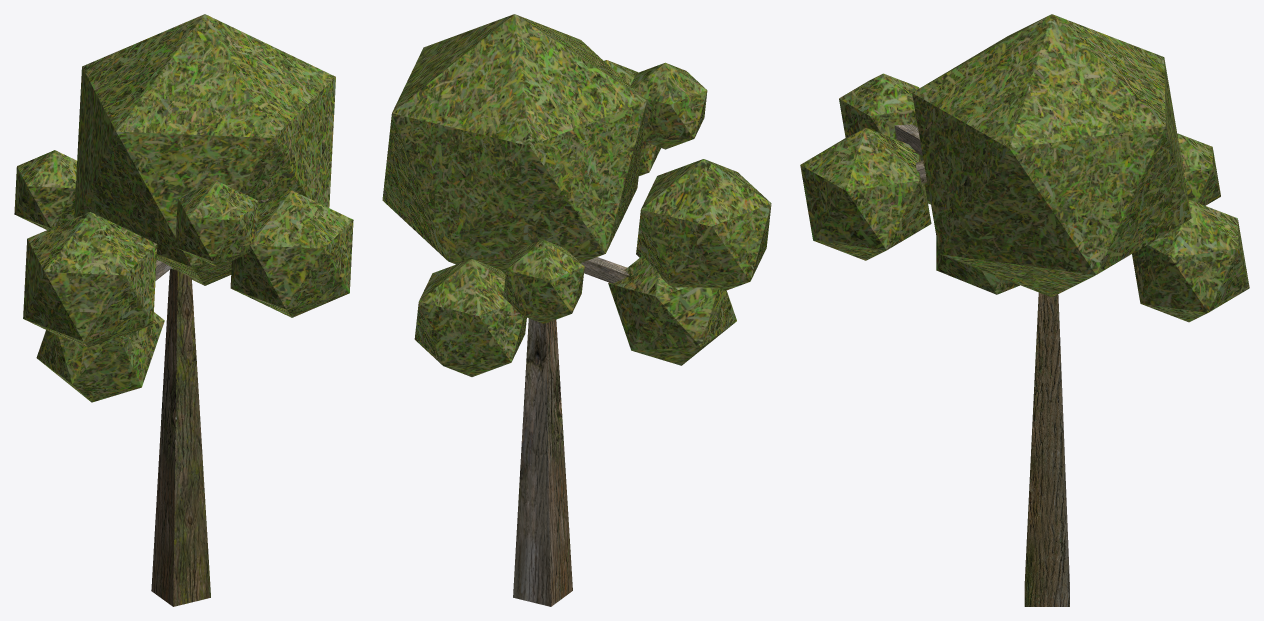
The model's file is arbol.fbx.
The picture shows the model from 3 angles, left to right: view 1: azimuth 30°, elevation 25°; view 2: azimuth 150°, elevation 25°; view 3: azimuth 270°, elevation 25°; orthographic projection. The views are drawn at different scales.
Visible parts, largest first — view 1: Icosphere.001; view 2: Icosphere.001; view 3: Icosphere.001.
Boxes of the visible parts, x1,y1,x2,y2 form: Icosphere.001: (14, 14, 353, 606); Icosphere.001: (382, 14, 771, 606); Icosphere.001: (800, 14, 1249, 606).
Size of the model in its own units: 24.9 by 42.69 by 29.15.
